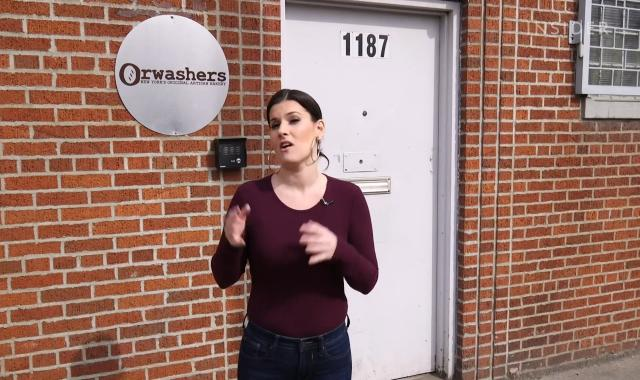no_hairnet: (265, 88, 325, 163)
